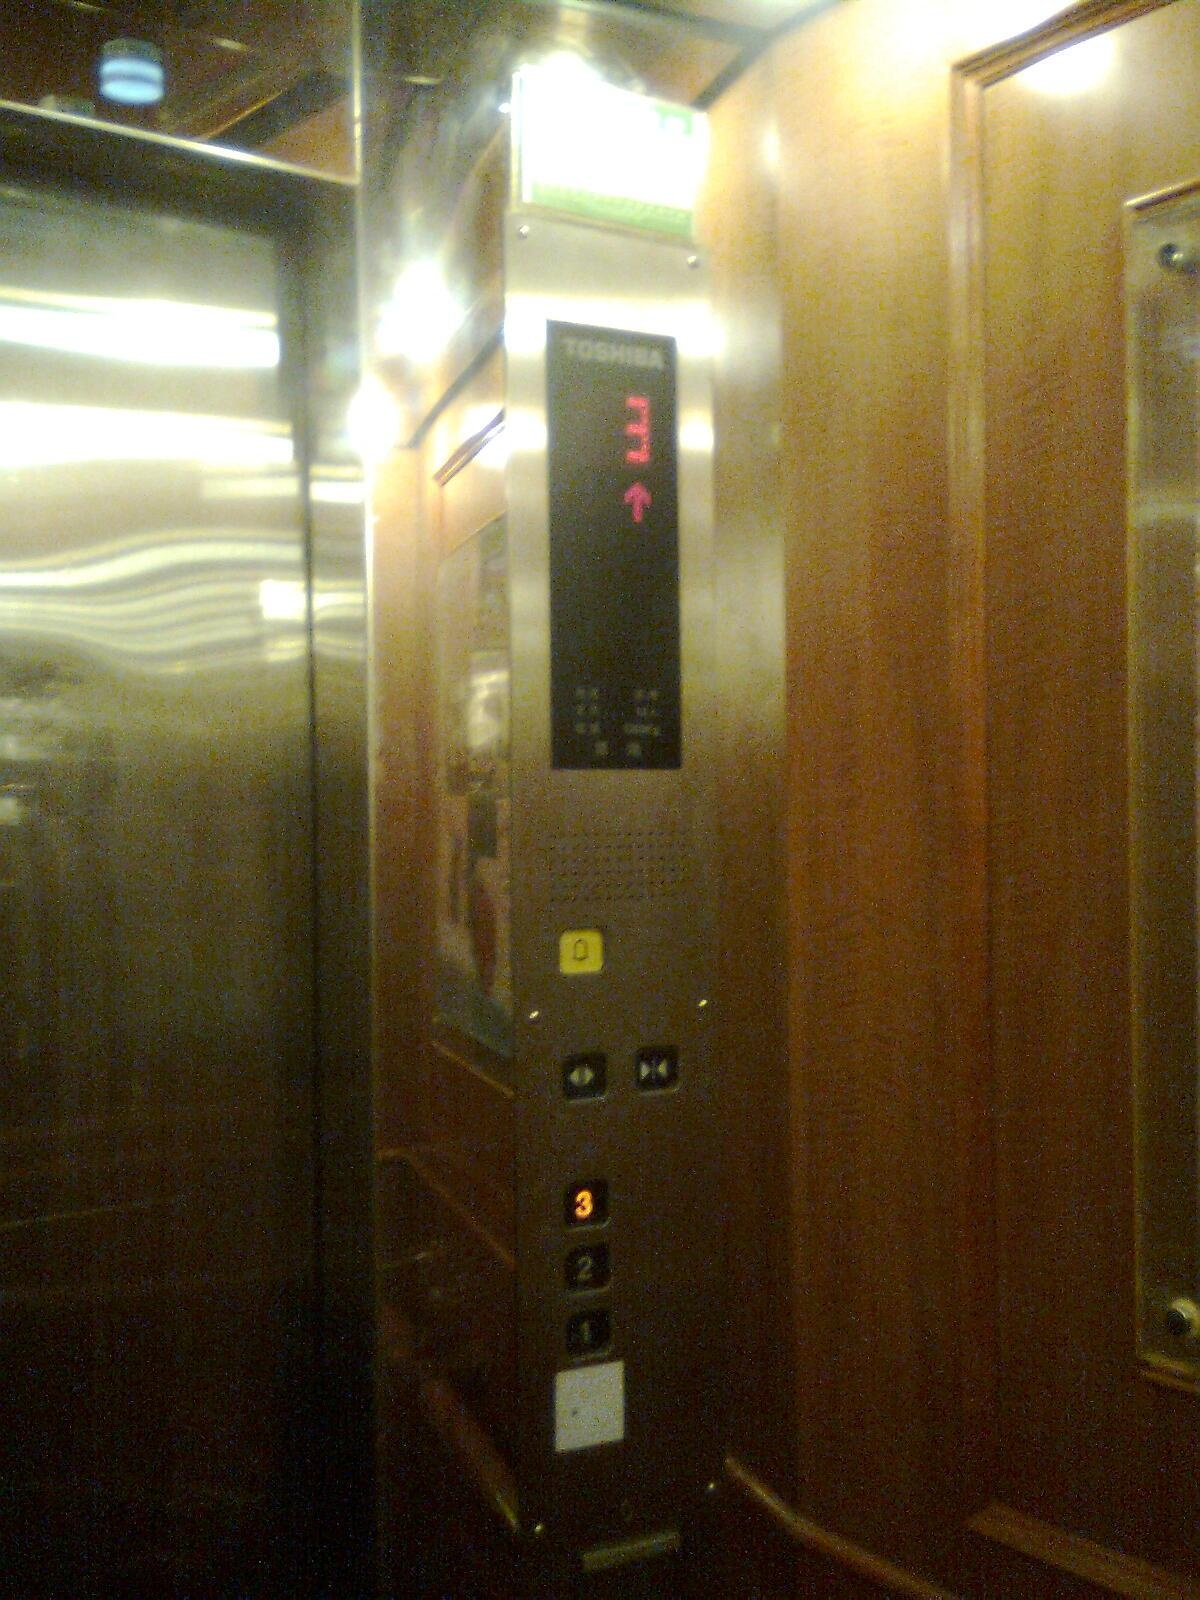1: (562, 1304, 616, 1361)
2: (561, 1240, 613, 1296)
3: (561, 1177, 613, 1230)
alarm: (556, 923, 608, 976)
close: (632, 1043, 681, 1096)
led: (541, 314, 688, 779)
open: (558, 1049, 610, 1104)
